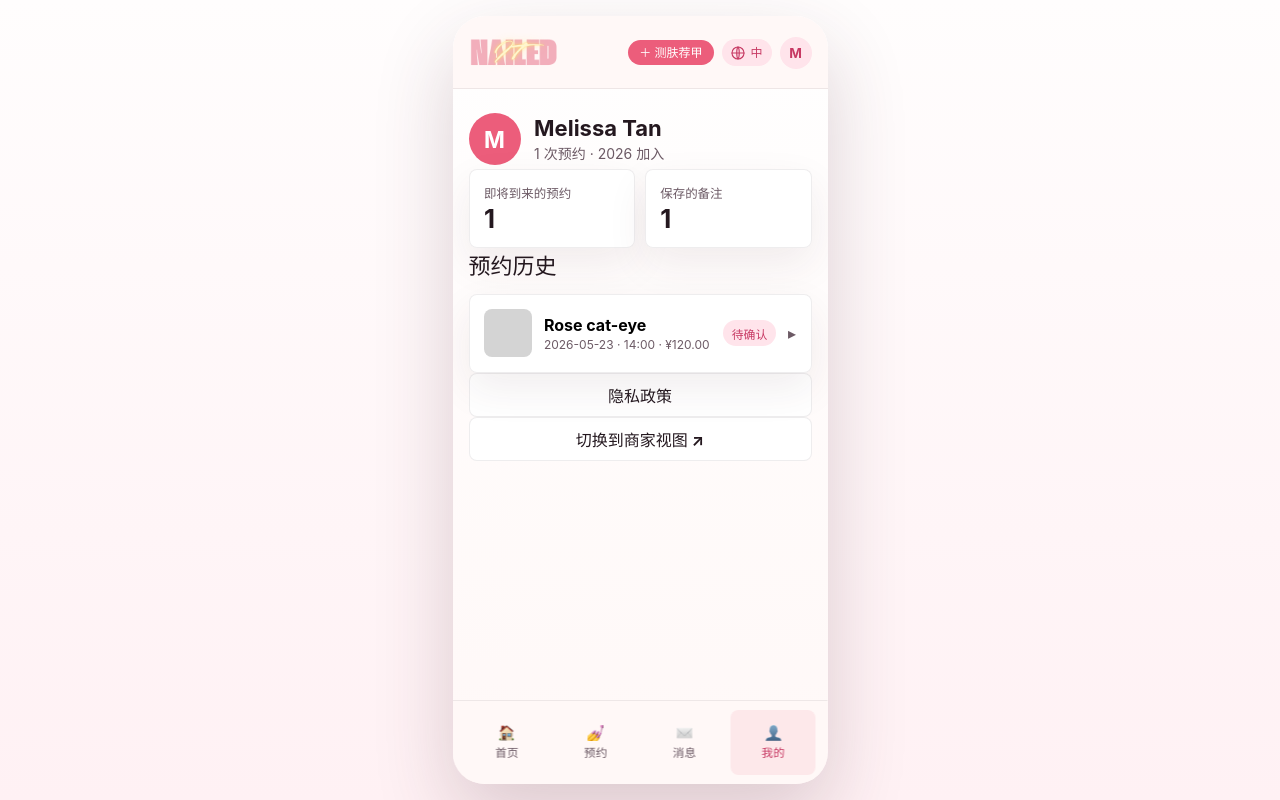
CustomerProfilePage › renders a language switcher and updates visible labels after switching to English
Expected: the heading "预约历史" is shown, [468,252,556,278]
Expected: the text "即将到来的预约" is shown, [484,186,571,201]
What coordinates should you click on to do the following:
click the button named "切换语言"
I would click on:
 (747, 53)
Its box is [722,39,772,66].
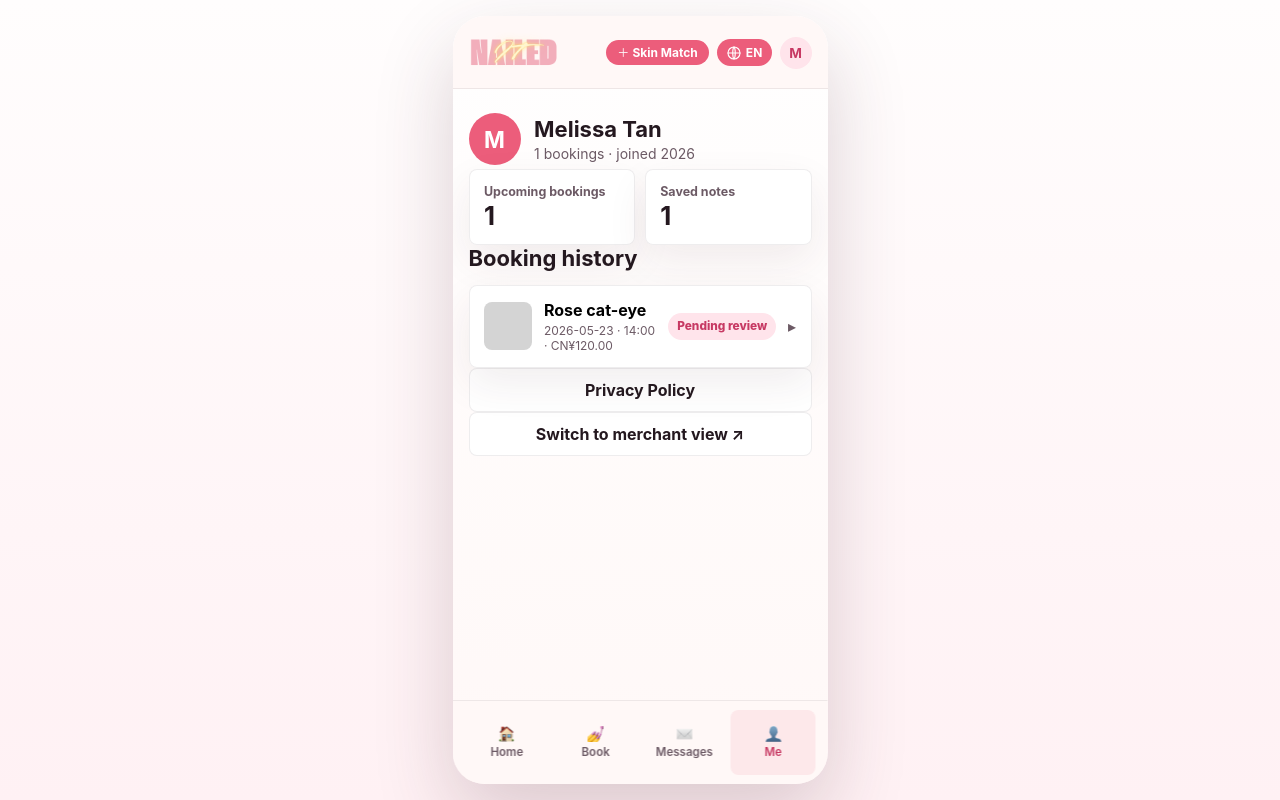
Expected: the heading "Booking history" is shown, [468,244,637,270]
Expected: the text "Upcoming bookings" is shown, [484,184,620,199]
Expected: the button with aria-label "Switch language" is shown, [717,39,772,66]
